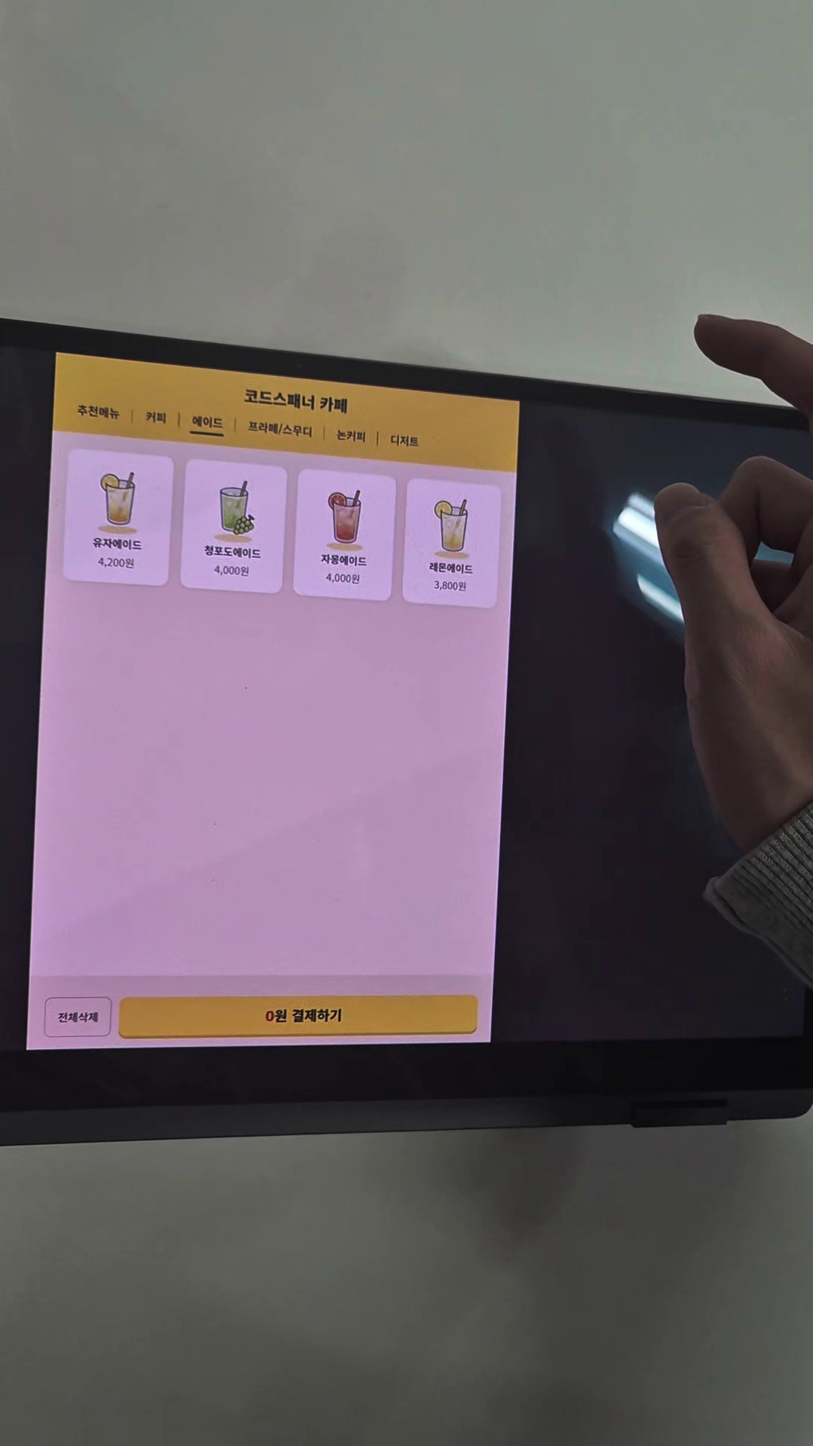action_button: (119, 996, 477, 1036), (46, 998, 111, 1036)
category_tab: (247, 420, 313, 439), (76, 403, 121, 421), (335, 428, 367, 445), (191, 414, 224, 430), (389, 433, 420, 449), (145, 410, 167, 425)
menu_back: (61, 448, 174, 588), (179, 458, 289, 594), (292, 469, 397, 602), (402, 476, 502, 609)
menu_name: (203, 544, 263, 560), (91, 536, 143, 552), (319, 552, 367, 568), (428, 560, 474, 576)
menu_price: (96, 556, 135, 571), (212, 564, 251, 578), (324, 572, 362, 586), (432, 579, 467, 593)
